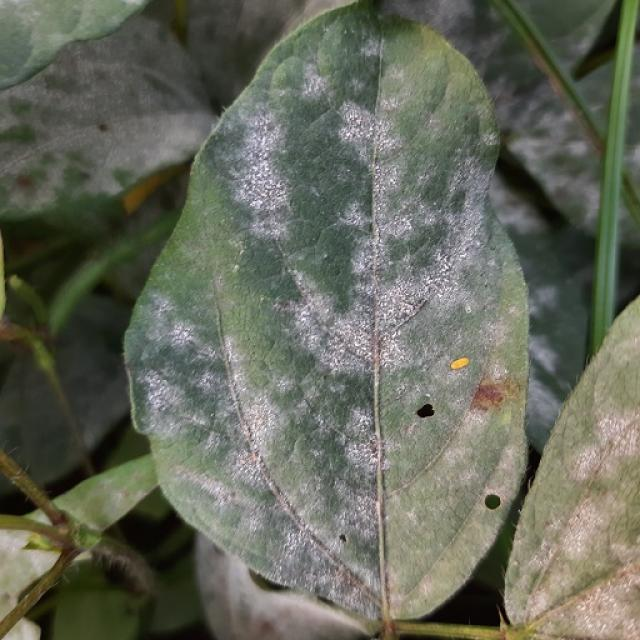Powdery_Mildew: (289, 146, 461, 388), (20, 41, 188, 158), (270, 377, 378, 507), (271, 511, 388, 616), (366, 208, 459, 334), (235, 111, 316, 242), (293, 278, 382, 388), (247, 375, 320, 472), (14, 145, 101, 205), (242, 146, 290, 240), (334, 98, 384, 176), (153, 313, 209, 382), (242, 154, 287, 219), (588, 411, 637, 470), (568, 583, 631, 627), (153, 385, 205, 437), (236, 392, 275, 453), (421, 249, 459, 288), (383, 292, 424, 325), (525, 581, 557, 619), (2, 122, 40, 149), (357, 36, 382, 63), (351, 332, 366, 351), (231, 263, 240, 274), (465, 305, 472, 314), (512, 559, 518, 568), (323, 253, 329, 260), (343, 30, 349, 37), (210, 412, 215, 418)
